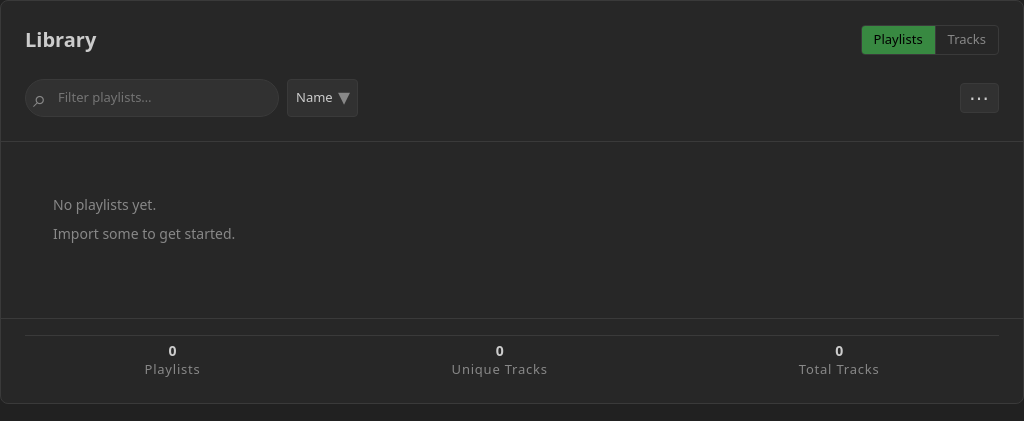
Test: LibraryCard › shows empty message when no tracks in tracks view
The image size is (1024, 421).
Step 1. Click the button "Tracks" → (966, 40), box left=935, top=26, right=998, bottom=54
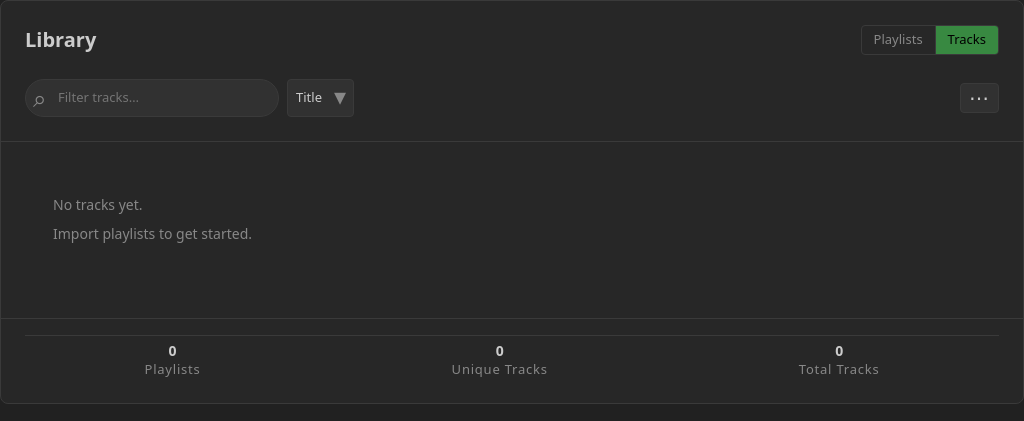
Result: the text "No tracks yet" is shown at left=53, top=194, right=142, bottom=214
